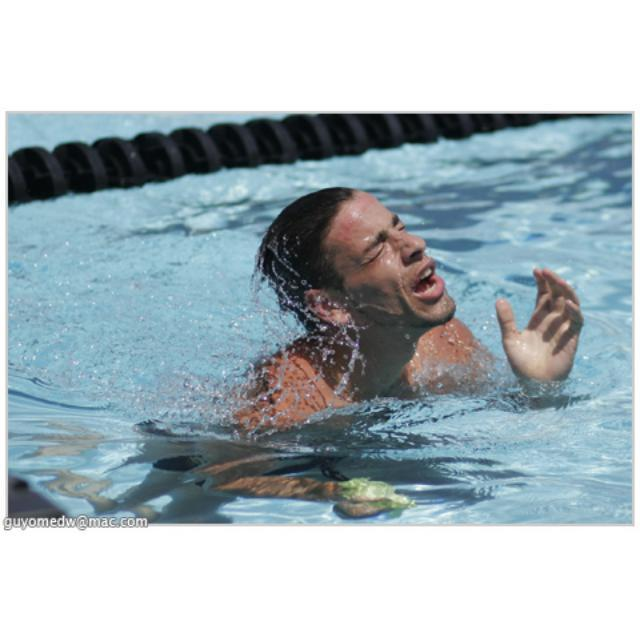human: (245, 181, 585, 433)
